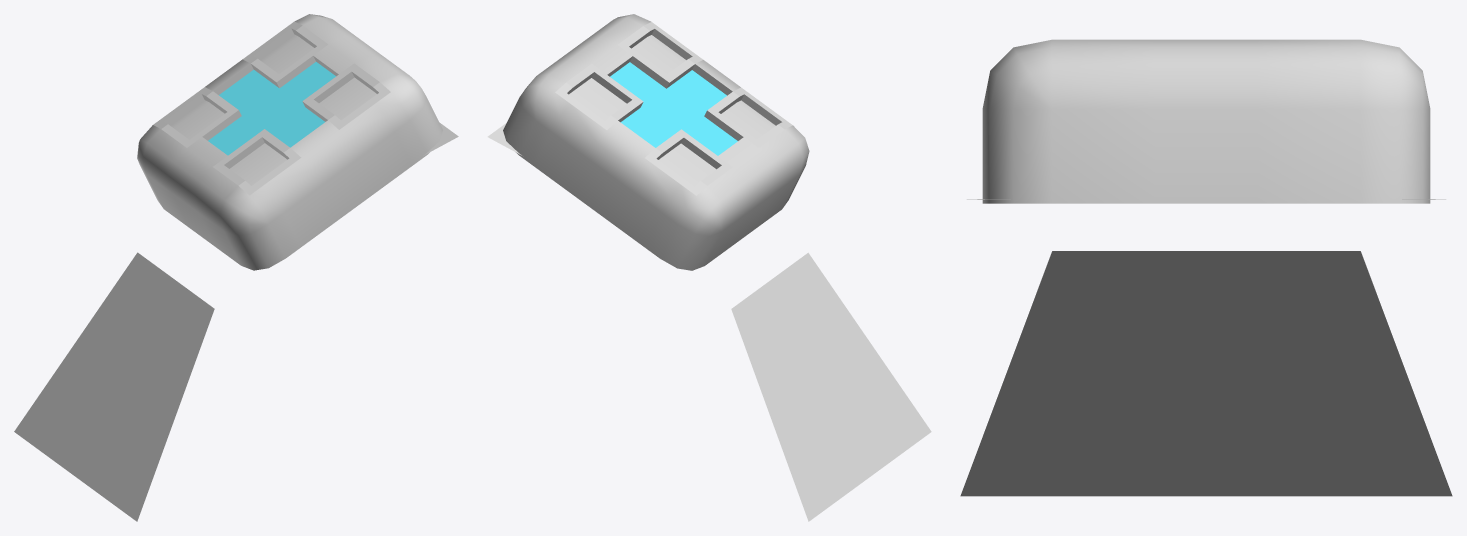
Rendered from Mod_Pauldron_R_Idol2.fbx.
3 renders of one model, left to right at view 1: azimuth 30°, elevation 25°; view 2: azimuth 150°, elevation 25°; view 3: azimuth 270°, elevation 25°, orthographic. The views are drawn at different scales.
Visible parts, largest first — view 1: Mod_Pauldron_R_Idol2; view 2: Mod_Pauldron_R_Idol2; view 3: Mod_Pauldron_R_Idol2.
Boxes of the visible parts, x1,y1,x2,y2 form: Mod_Pauldron_R_Idol2: [14, 14, 458, 521]; Mod_Pauldron_R_Idol2: [487, 14, 931, 521]; Mod_Pauldron_R_Idol2: [960, 39, 1452, 496].
Bounding box in the file's own units: 218 × 234 × 144.
